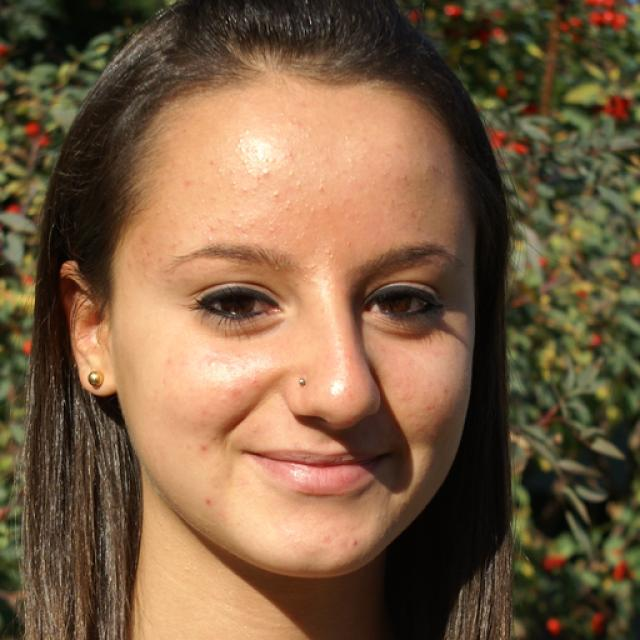Acne: (316, 244, 340, 270), (252, 162, 277, 186), (344, 530, 367, 555), (267, 183, 288, 206), (311, 182, 336, 201), (300, 199, 320, 219), (191, 234, 217, 248), (345, 154, 363, 171), (268, 259, 282, 279), (319, 199, 336, 215), (281, 166, 299, 181), (204, 218, 220, 234), (203, 357, 217, 375), (289, 179, 306, 192)
